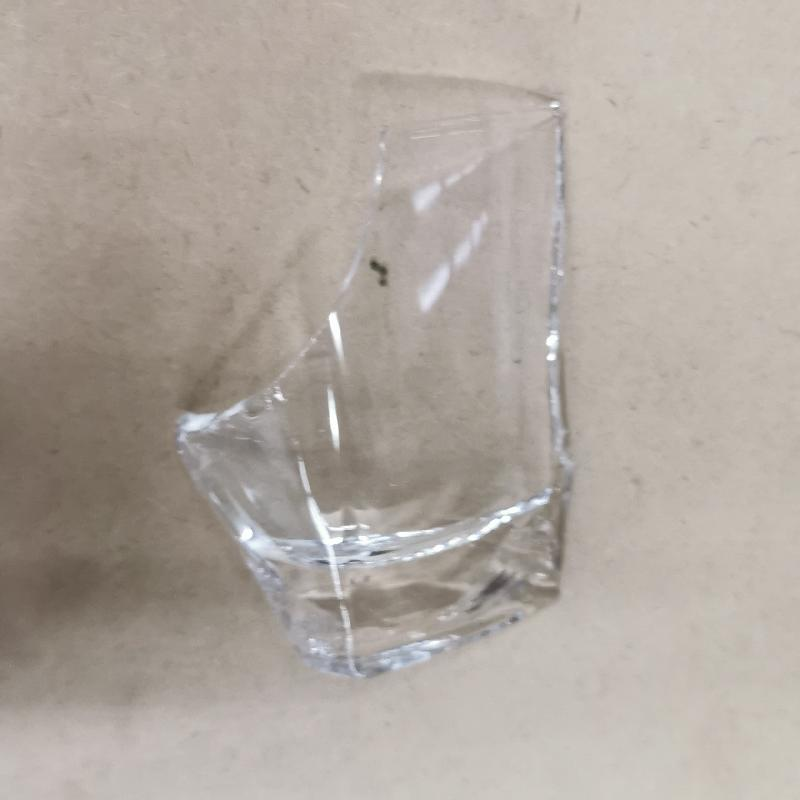glass: (162, 101, 577, 677)
